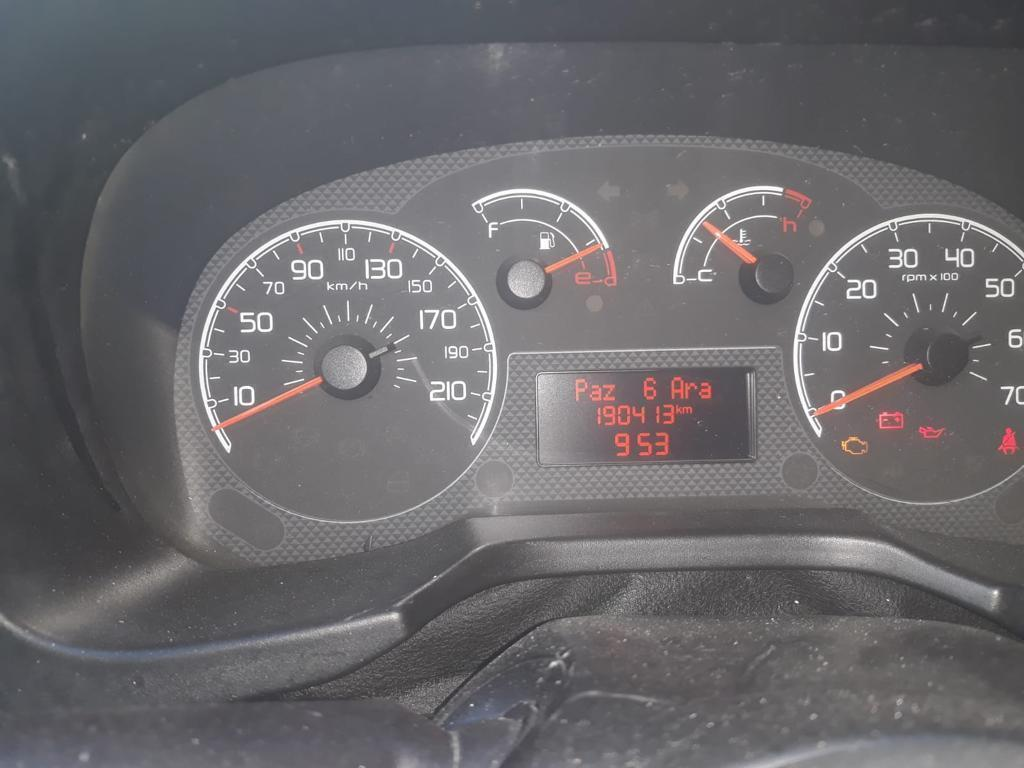0: (616, 404, 631, 426)
1: (594, 404, 602, 426), (653, 403, 661, 425)
3: (654, 431, 670, 456), (662, 403, 675, 425)
4: (631, 404, 647, 424)
5: (635, 431, 653, 457)
6: (642, 376, 657, 400)
9: (611, 430, 630, 457), (602, 404, 616, 427)
X: (669, 375, 685, 400), (573, 377, 588, 402), (587, 383, 602, 402), (697, 381, 712, 400), (602, 382, 616, 402), (685, 380, 697, 400), (683, 405, 693, 416), (675, 402, 682, 415)
odometer: (533, 364, 760, 470)
